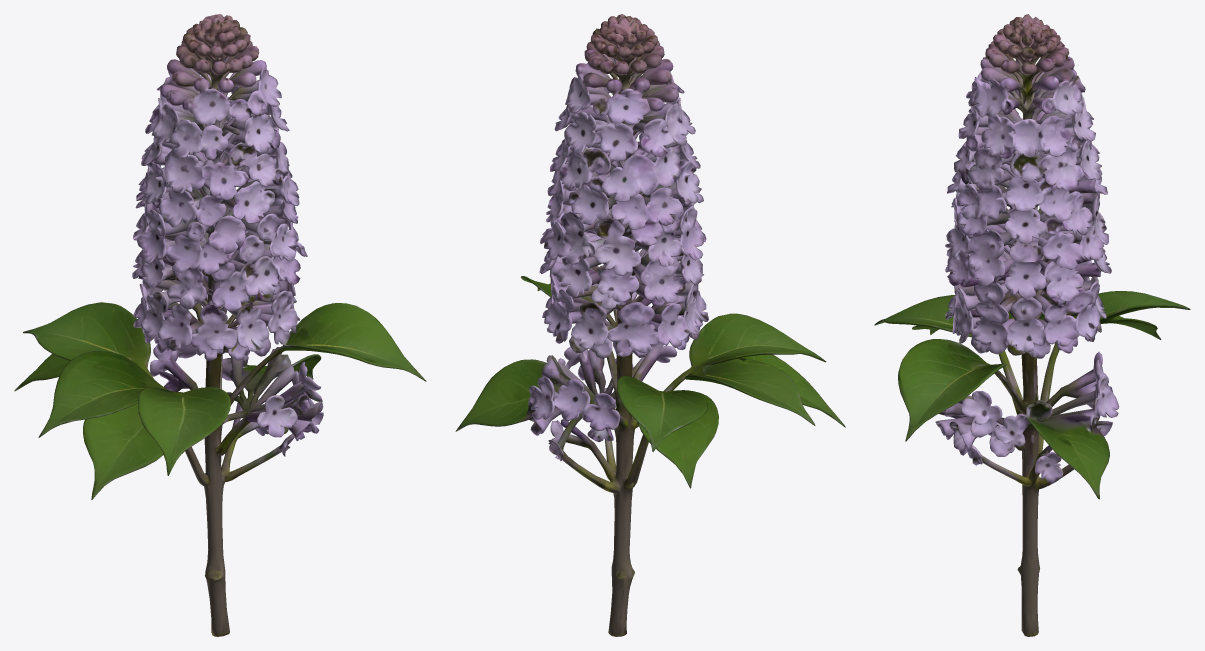
The model's file is zidingxiang.glb.
3 renders of one model, left to right at view 1: azimuth 30°, elevation 25°; view 2: azimuth 150°, elevation 25°; view 3: azimuth 270°, elevation 25°, orthographic.
Parts seen in each view (by area): view 1: node_0; view 2: node_0; view 3: node_0.
Part boxes in pixels (x1,y1,x2,y2): node_0: (14,14,426,636); node_0: (455,14,845,636); node_0: (874,14,1190,636).
Bounding box in the file's own units: 0.6727 × 1.19 × 0.5583.
Materials: 1 (1 with a texture image).
